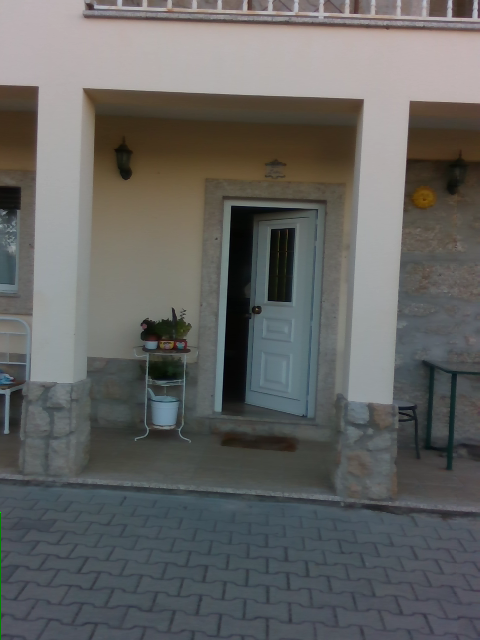semi: (213, 196, 326, 419)
